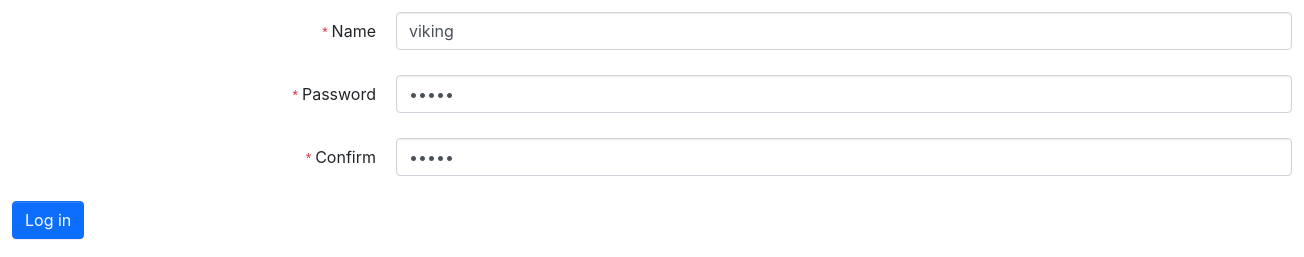
Scenario: Form测试 › 改变输入为不合法时应该弹出提示
The image size is (1304, 257).
Clear the field showing "viking": point(844, 31) [396,12,1292,50]
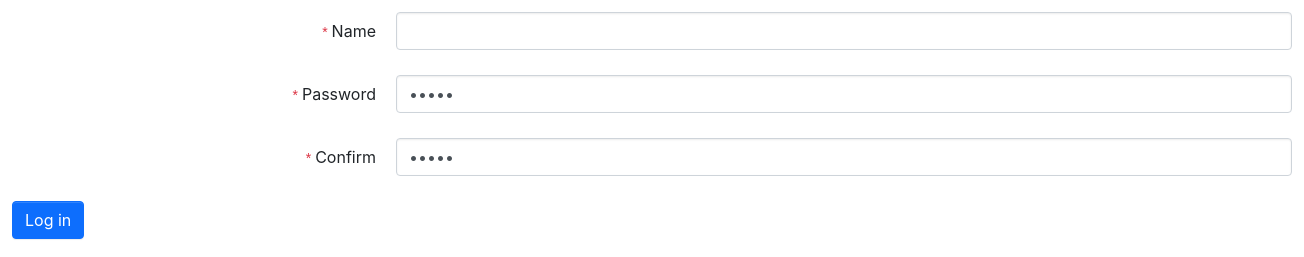
Leave the field showing "viking", box [396,12,1292,50]
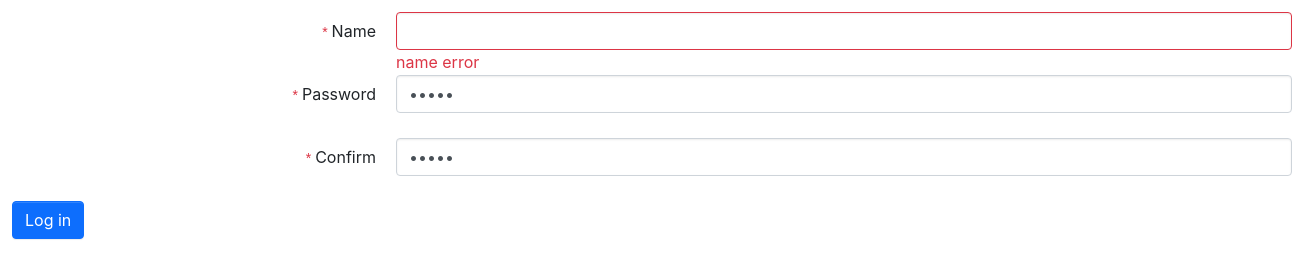
Check: the text "name error" is shown, box [396,52,479,72]
In the field showing "viking": point(844, 31) [396,12,1292,50], type "12"
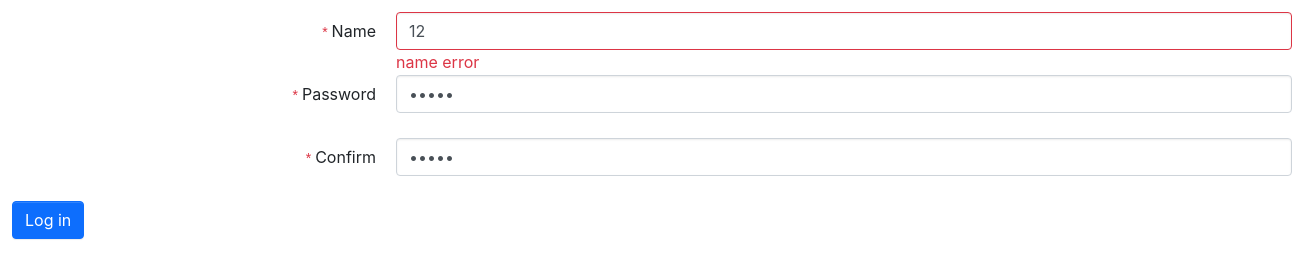
Leave the field showing "viking", box [396,12,1292,50]
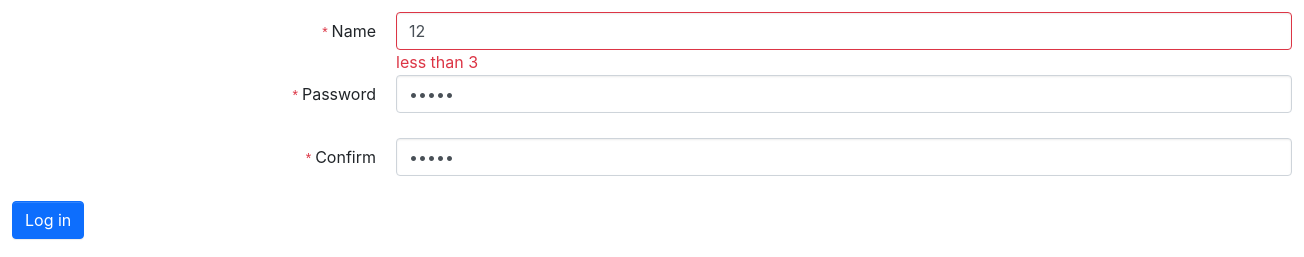
Check: the text "less than 3" is shown, box [396,52,478,72]
